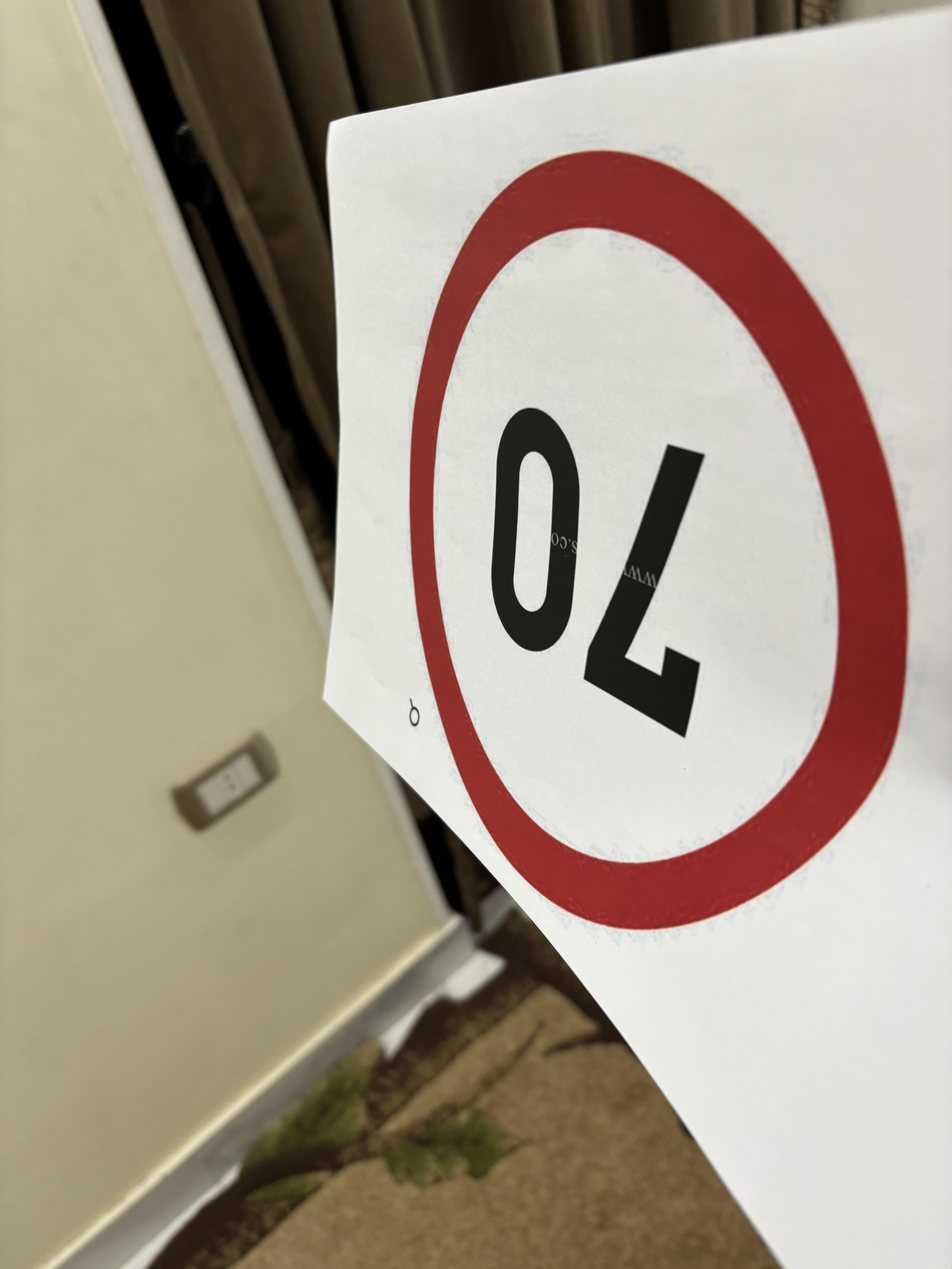70-Speed: (408, 143, 916, 934)
